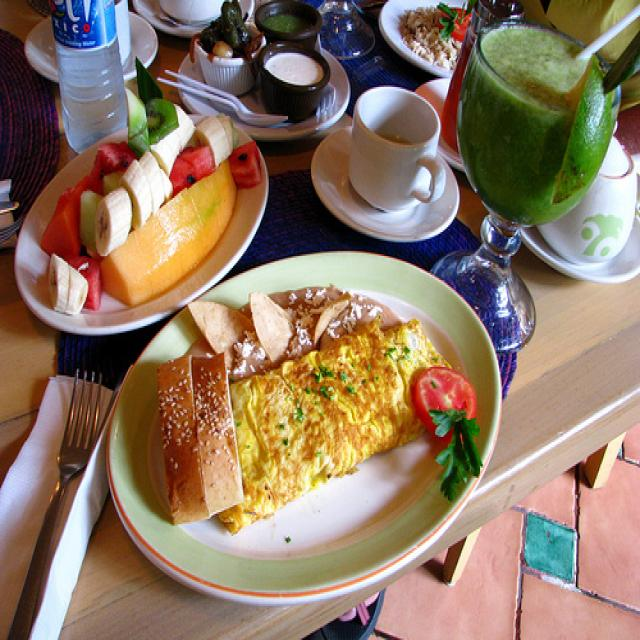鸡蛋料理: (173, 309, 468, 531)
